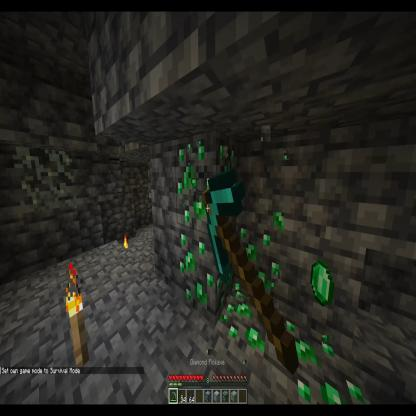emerald ore: (273, 317, 384, 416), (172, 132, 240, 235), (177, 230, 237, 330), (214, 280, 283, 358), (231, 222, 283, 308)
